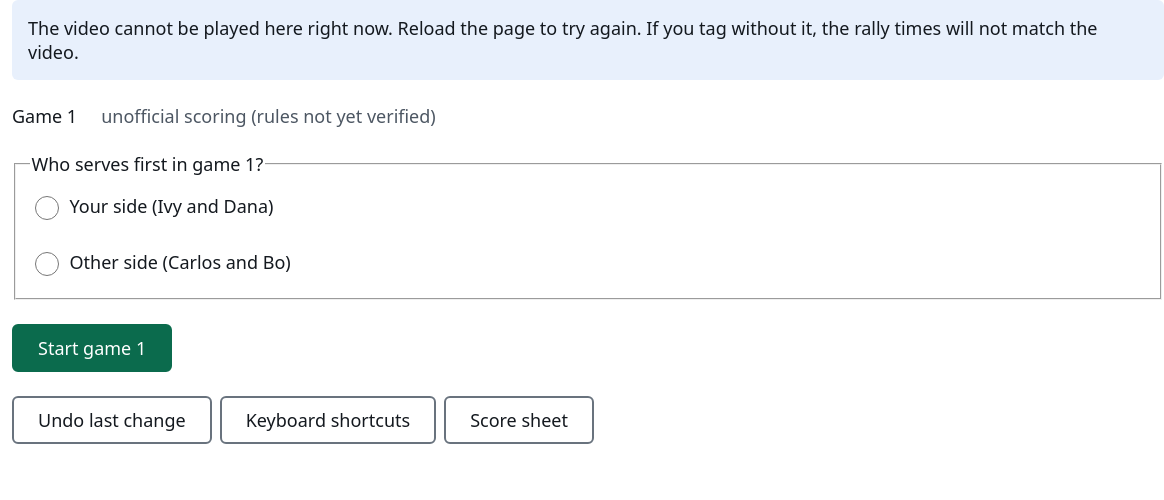
Scenario: QuickTag (T-01) › asks who serves first before game 1 and tags nothing until the game is started
Expected: the button "Rally start" is not shown
Click the radio button labelled "Your side (Ivy and Dana)" at (46, 208), box [34,196,58,220]
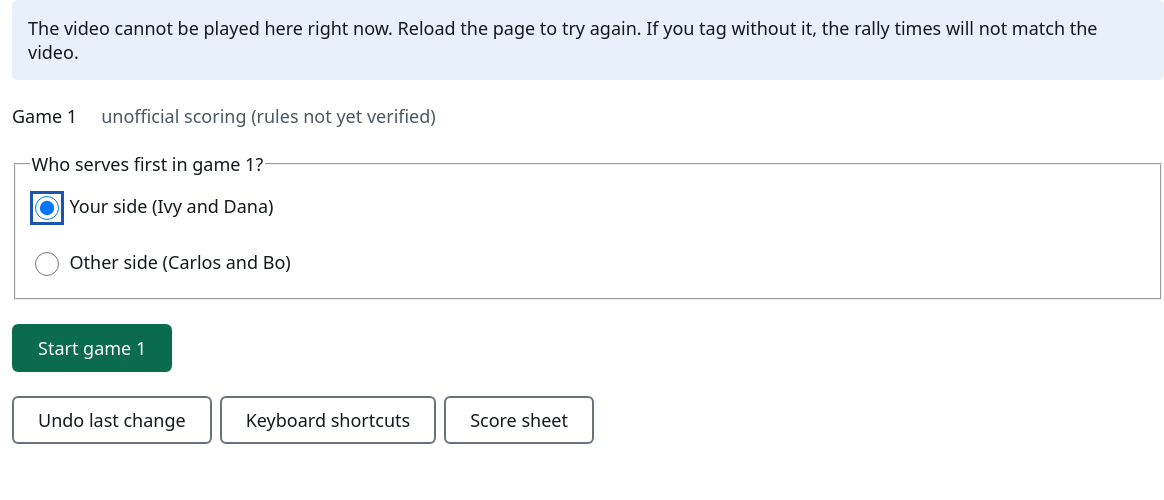
Click the button "Start game 1" at (92, 348), box [12,324,172,372]
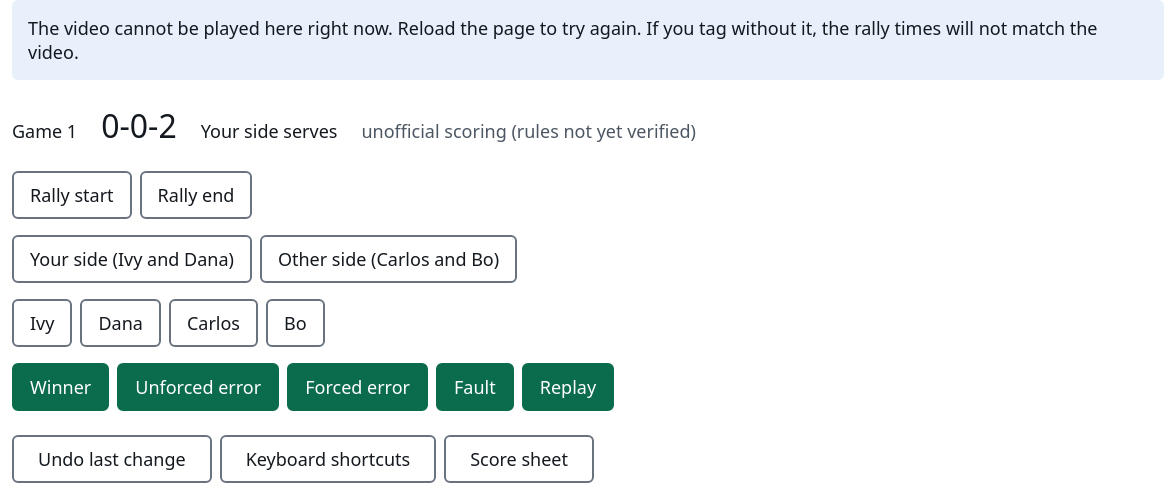
Expected: the button "Rally start" is shown, [12,171,132,219]
Expected: the text "0-0-2" is shown, [101,104,177,147]
